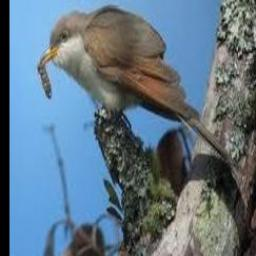Cuckoo: (41, 5, 232, 166)
